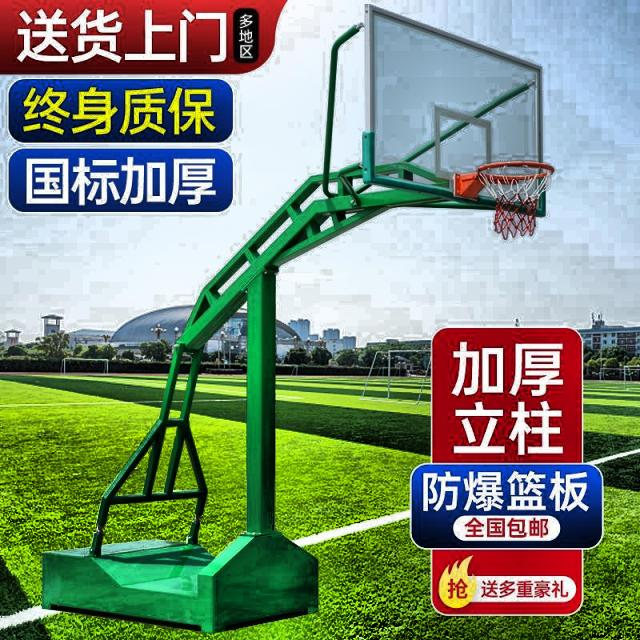rim: (478, 163, 554, 241)
